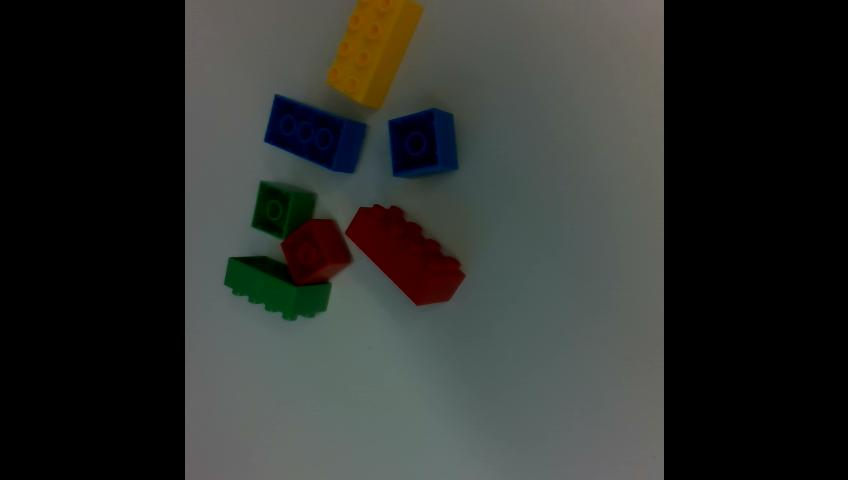2x2_blue: (388, 109, 459, 180)
2x2_green: (251, 182, 316, 240)
2x2_red: (281, 219, 350, 285)
4x2_blue: (265, 96, 365, 171)
4x2_green: (224, 257, 330, 320)
4x2_red: (346, 204, 464, 303)
4x2_yellow: (327, 0, 422, 108)
